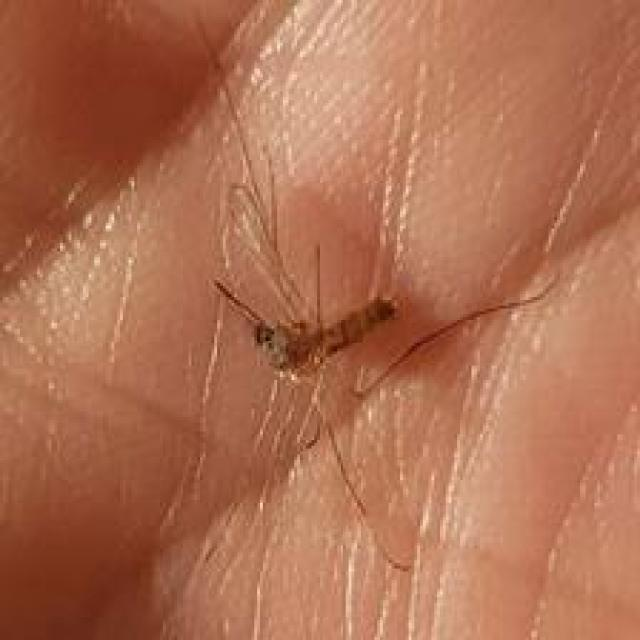Culex: (183, 153, 557, 573)
